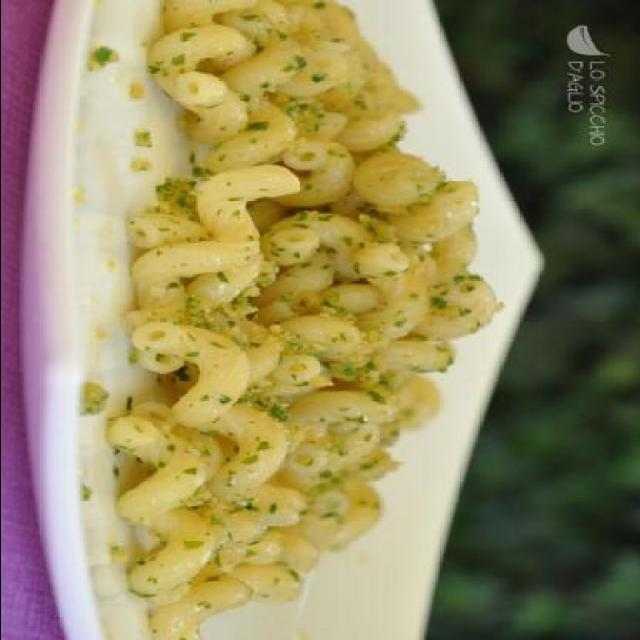Oil pasta: (81, 38, 464, 612)
